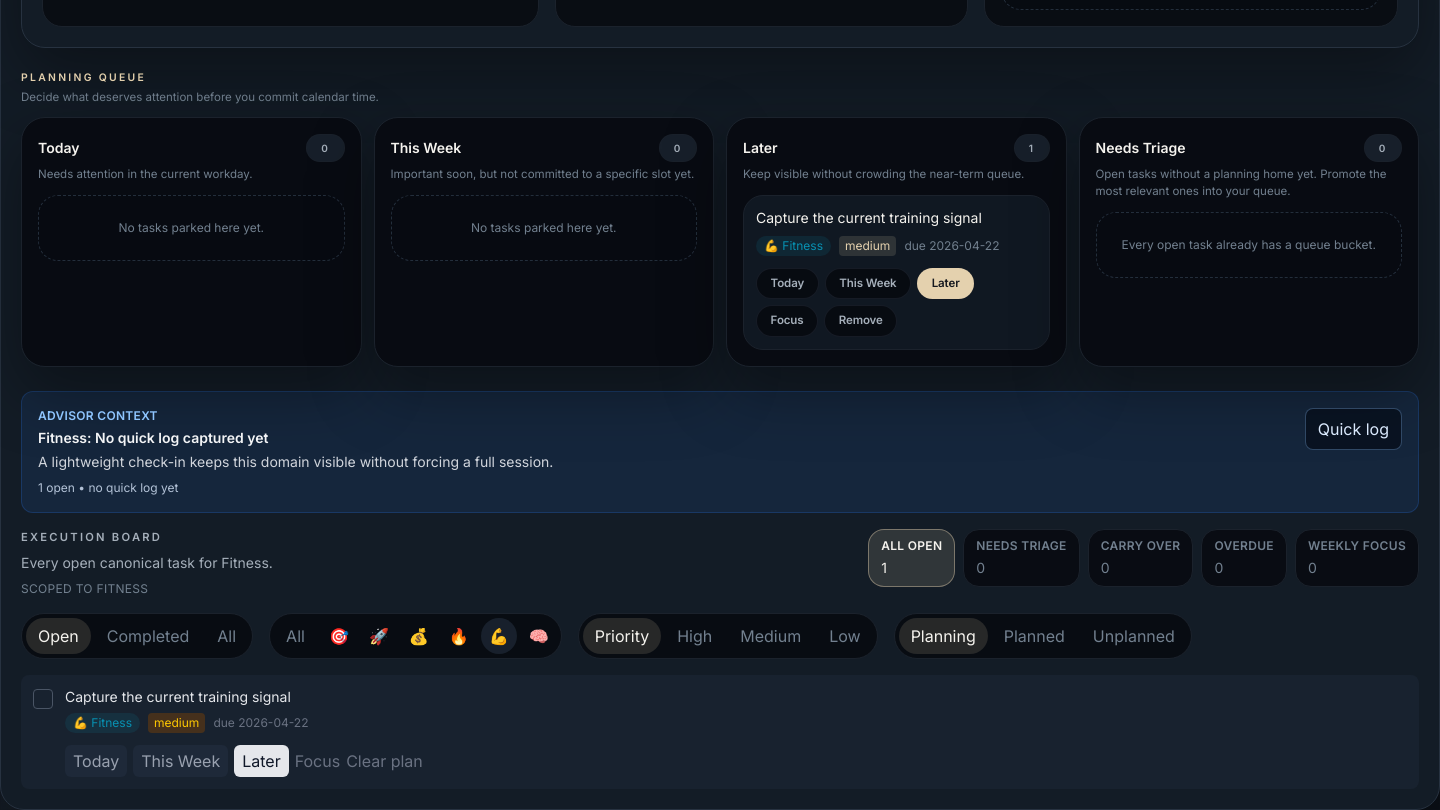
Test: TaskDashboard › shows scoped advisor context and opens a quick log when that is the next advisor action
(page scrolled)
Expected: the text "Advisor Context" is shown, [38, 408, 158, 422]
Expected: the heading "Fitness: No quick log captured yet" is shown, [38, 428, 268, 446]
Click the button "Quick log" at (1353, 428), box [1305, 408, 1402, 450]
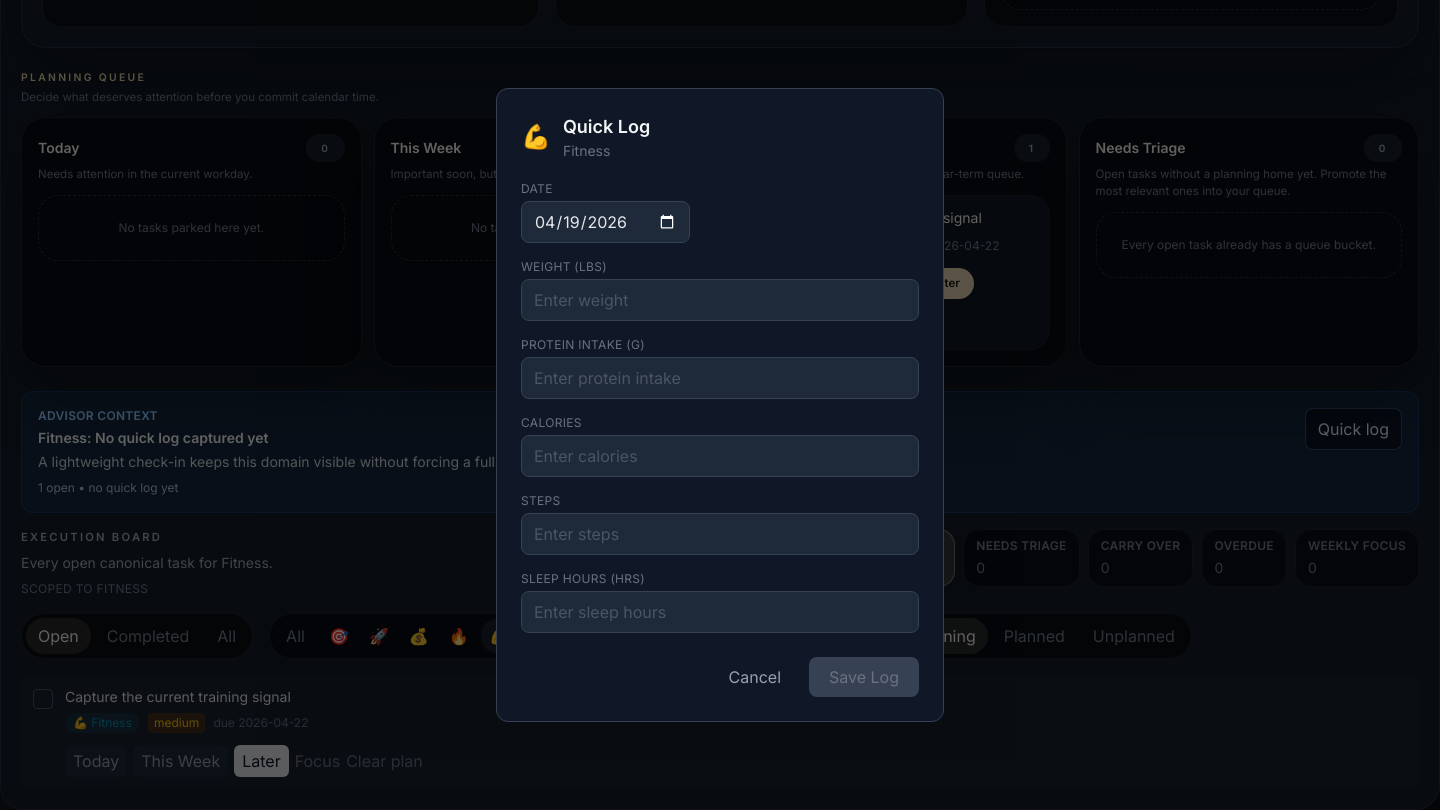
Expected: the heading "Quick Log" is shown, [563, 113, 650, 141]
Expected: the text "Fitness" is shown, [563, 142, 610, 159]
